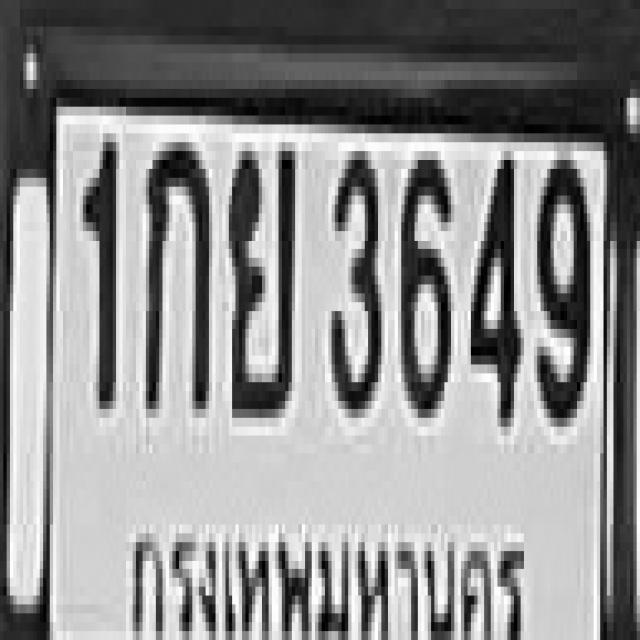1: (80, 129, 112, 395)
10GorGai: (142, 133, 205, 400)
3: (328, 142, 378, 409)
4: (468, 147, 517, 413)
43YorYak: (225, 138, 292, 404)
6: (398, 146, 448, 404)
9: (534, 151, 587, 418)
Bangkok: (120, 511, 532, 640)
